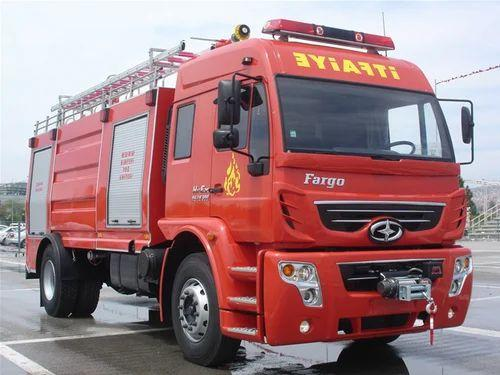ambulance: (26, 19, 500, 356)
